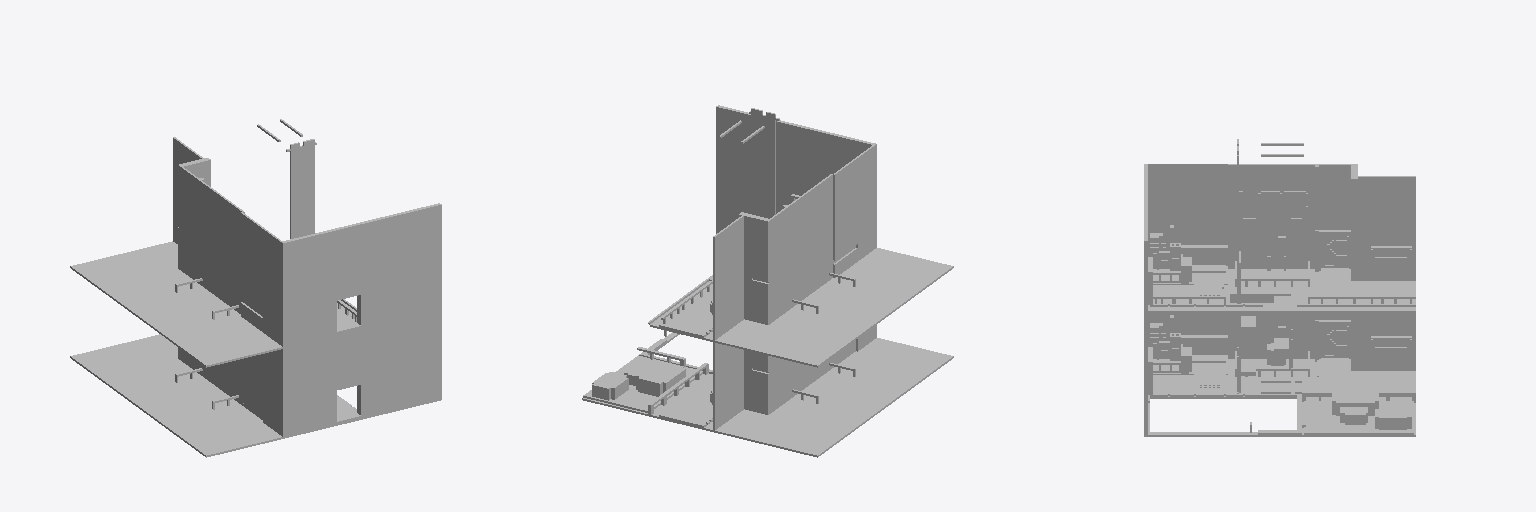
The model's file is Sci-Fi Level 7.obj.
The picture shows the model from 3 angles: view 1: azimuth 30°, elevation 25°; view 2: azimuth 150°, elevation 25°; view 3: azimuth 270°, elevation 25°; orthographic projection.
Visible parts, largest first — view 1: object 1; view 2: object 1; view 3: object 1.
Boxes of the visible parts, x1=… form: object 1: x1=70, y1=119, x2=441, y2=457; object 1: x1=582, y1=105, x2=953, y2=457; object 1: x1=1144, y1=139, x2=1415, y2=436.
Bounding box in the file's own units: 12.6 × 12.6 × 12.6.